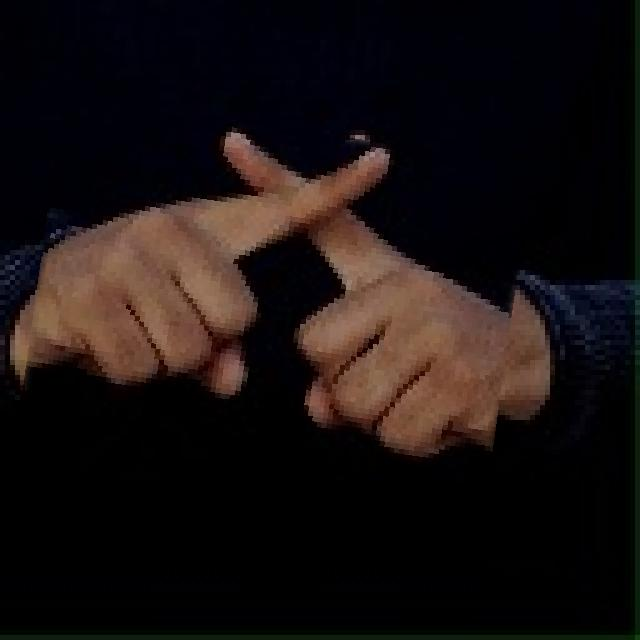X: (29, 113, 523, 473)
